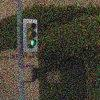traffic lights: (26, 22, 37, 49)
